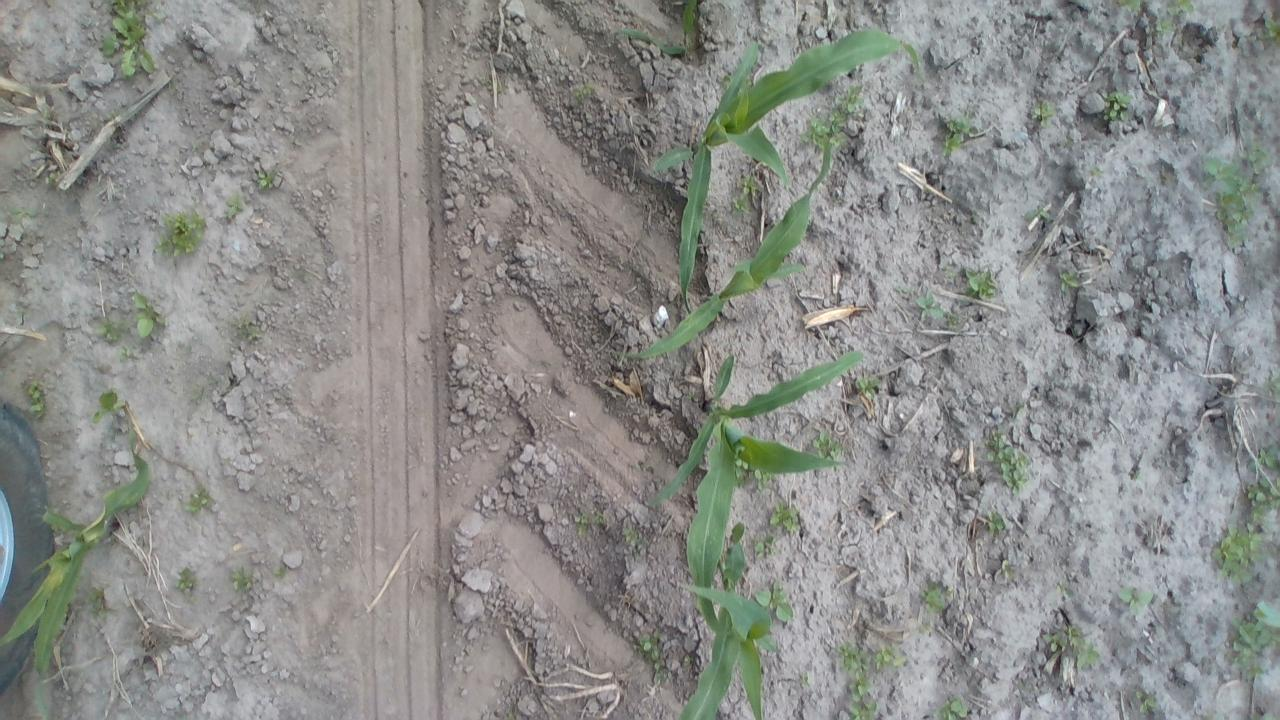Maize: (651, 28, 924, 318), (648, 349, 868, 630), (640, 132, 836, 374), (3, 452, 154, 686), (654, 522, 779, 720), (604, 4, 712, 61)
Weeds: (1202, 148, 1270, 238), (100, 2, 162, 80), (838, 644, 899, 719), (1233, 599, 1279, 680), (804, 88, 866, 146), (986, 426, 1032, 500), (1048, 622, 1099, 668), (1218, 530, 1260, 580), (159, 210, 205, 255), (754, 582, 794, 623), (218, 312, 264, 346), (130, 292, 162, 338), (730, 176, 762, 214), (962, 267, 998, 300), (636, 634, 666, 672), (942, 118, 968, 160), (922, 578, 953, 612), (1118, 586, 1154, 615), (769, 504, 800, 536), (573, 507, 605, 538), (186, 485, 217, 517), (85, 588, 118, 618), (912, 295, 947, 323), (1102, 89, 1130, 123), (94, 390, 124, 420), (848, 375, 882, 400), (570, 80, 598, 110), (812, 431, 841, 459), (944, 693, 974, 720), (228, 566, 256, 594), (95, 316, 122, 344), (1029, 98, 1055, 126), (1136, 686, 1158, 718), (8, 202, 40, 224), (175, 566, 198, 596), (1261, 8, 1280, 44), (1247, 482, 1262, 526), (1023, 202, 1050, 226), (28, 382, 46, 416), (223, 191, 244, 220), (982, 512, 1008, 534), (256, 166, 276, 193), (1058, 270, 1083, 290), (1148, 12, 1170, 34), (754, 536, 775, 558), (1110, 0, 1144, 12), (1000, 558, 1016, 580), (622, 526, 640, 544), (1056, 581, 1074, 599), (1170, 1, 1194, 12), (272, 561, 288, 577)
